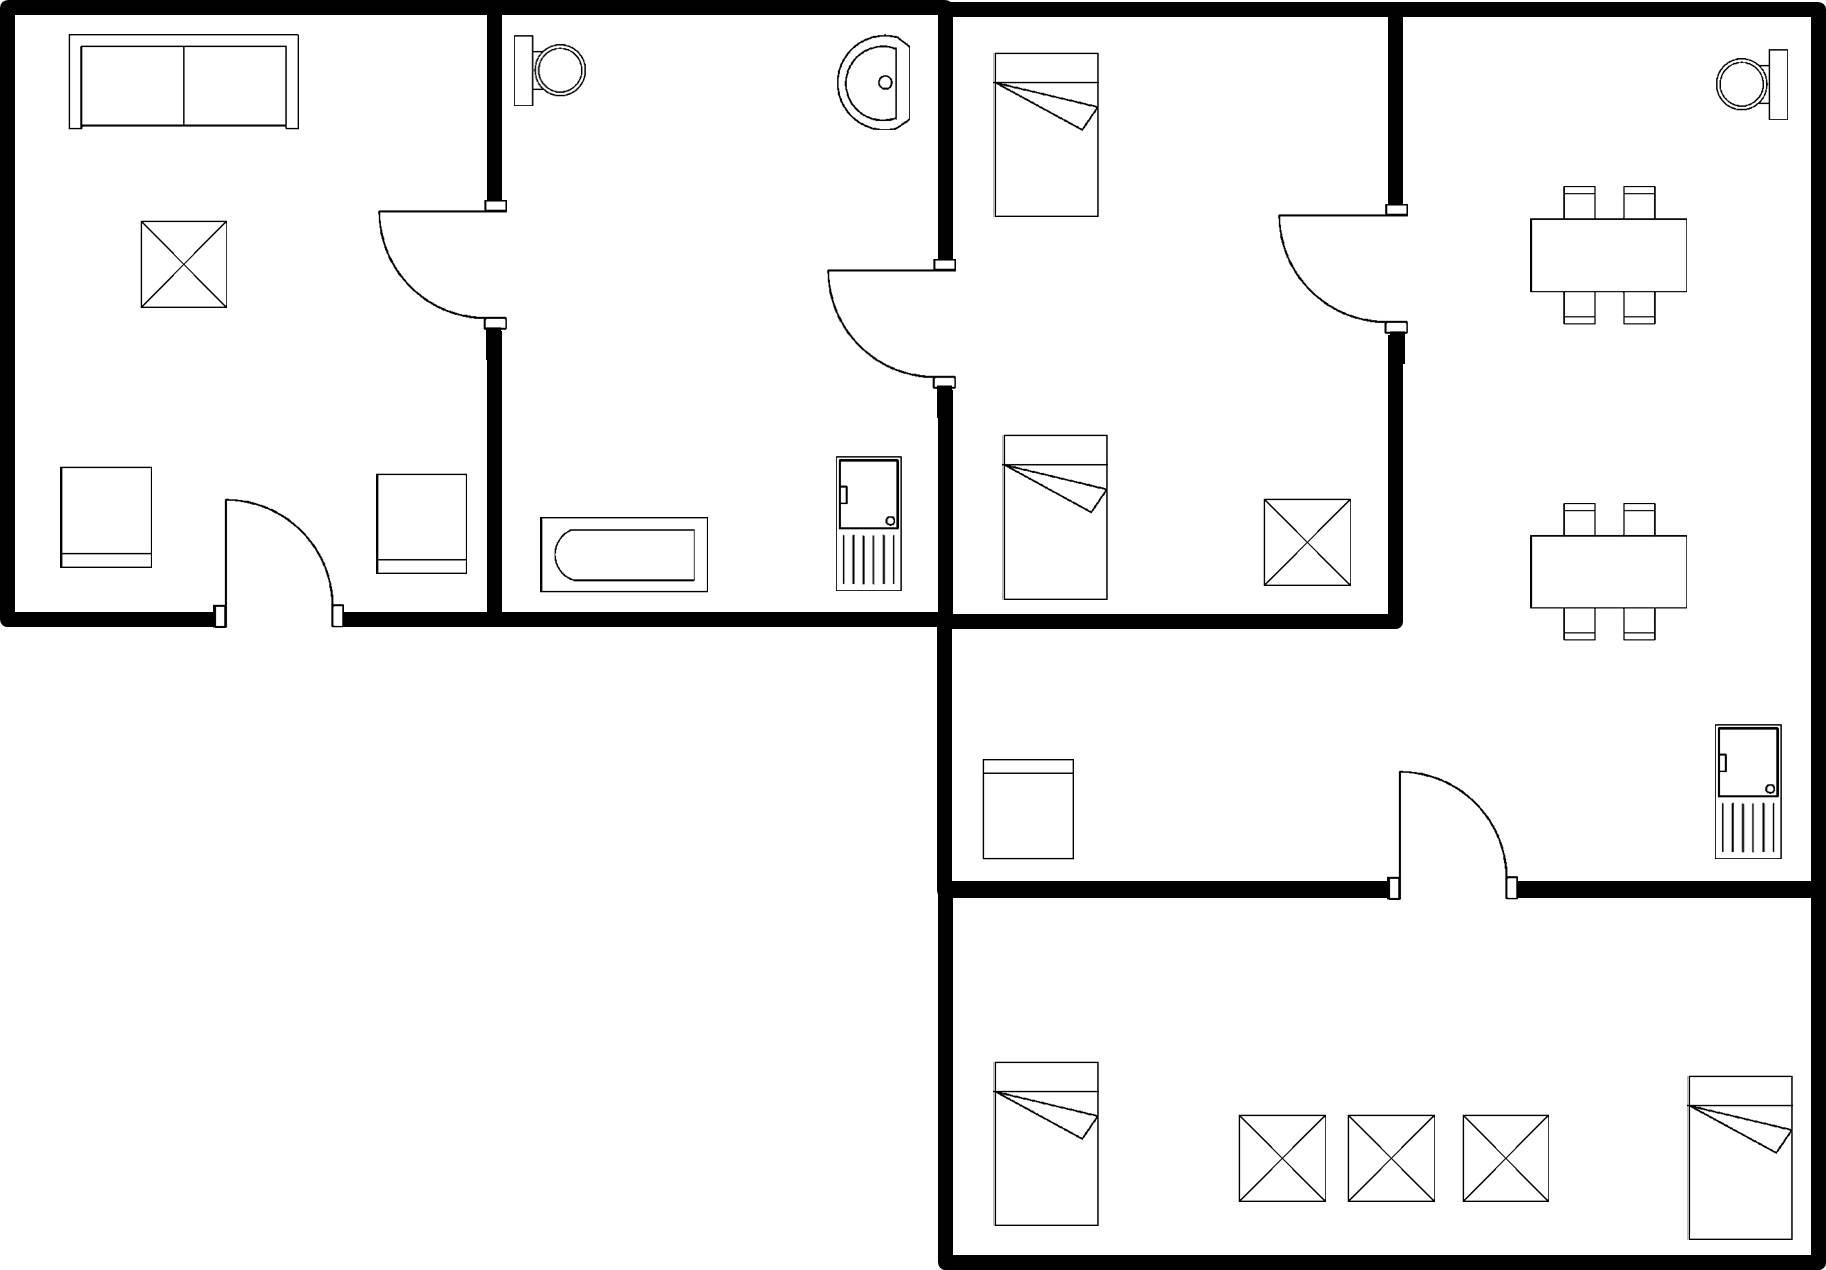bed: (989, 425, 1121, 607), (984, 1051, 1107, 1237), (984, 40, 1107, 225), (1678, 1067, 1800, 1251)
dining_table: (1515, 176, 1703, 333), (1515, 491, 1698, 650)
sofa: (56, 24, 309, 140)
toilet: (826, 446, 907, 602), (1700, 37, 1795, 132), (504, 24, 592, 119)
tub: (526, 507, 717, 605)
